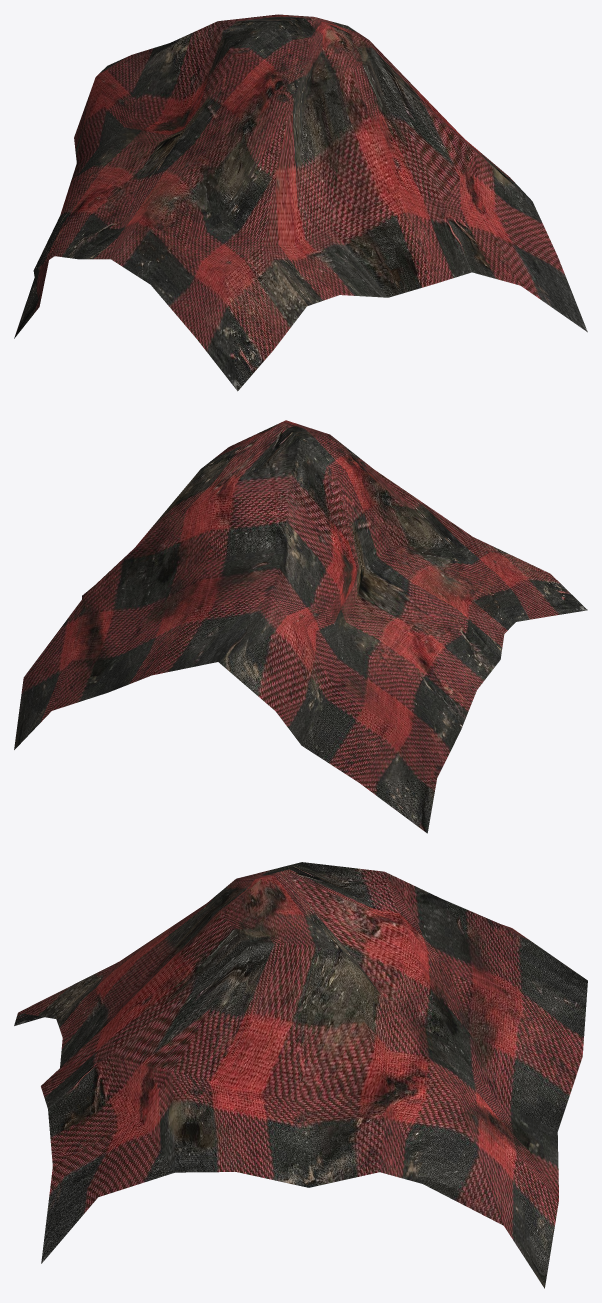
Rendered from Cloth.fbx.
3 renders of one model, top to bottom at view 1: azimuth 30°, elevation 25°; view 2: azimuth 150°, elevation 25°; view 3: azimuth 270°, elevation 25°, orthographic. The views are drawn at different scales.
Visible parts, largest first — view 1: Cloth; view 2: Cloth; view 3: Cloth.
Part boxes in pixels (bbox=[...]): Cloth: bbox=[14, 14, 587, 391]; Cloth: bbox=[14, 420, 587, 833]; Cloth: bbox=[14, 862, 587, 1288].
Bounding box in the file's own units: 63.33 × 47.65 × 69.79.
